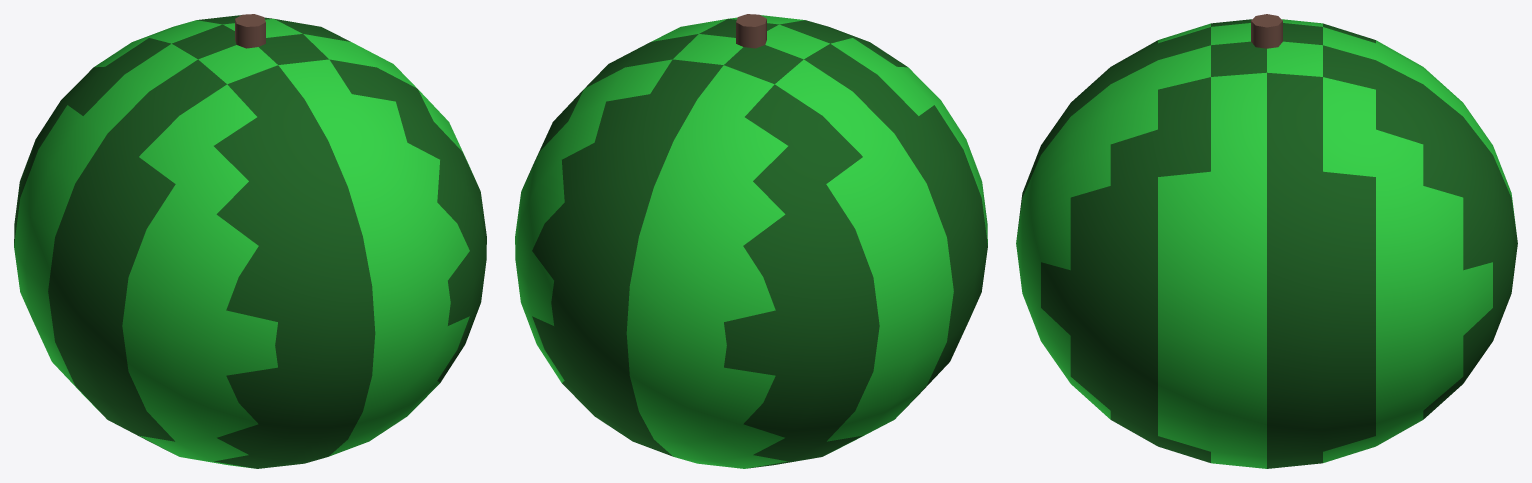
Rendered from watermelon.fbx.
The picture shows the model from 3 angles, left to right: view 1: azimuth 30°, elevation 25°; view 2: azimuth 150°, elevation 25°; view 3: azimuth 270°, elevation 25°; orthographic projection.
Visible parts, largest first — view 1: Watermelon; view 2: Watermelon; view 3: Watermelon.
Boxes of the visible parts, x1=… form: Watermelon: x1=14, y1=14, x2=486, y2=468; Watermelon: x1=515, y1=14, x2=987, y2=468; Watermelon: x1=1016, y1=14, x2=1517, y2=468.
Size of the model in its own units: 0.88 by 0.88 by 0.94.
